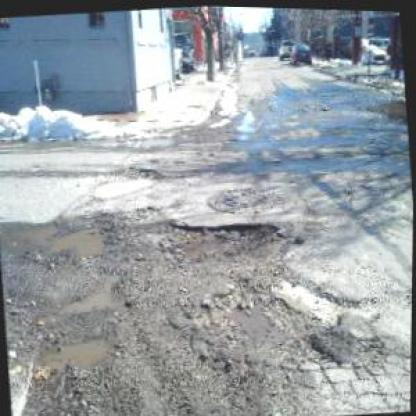pothole: (191, 264, 329, 371), (165, 204, 291, 268), (11, 210, 124, 268), (34, 326, 120, 377), (57, 265, 133, 316), (107, 164, 165, 184)
